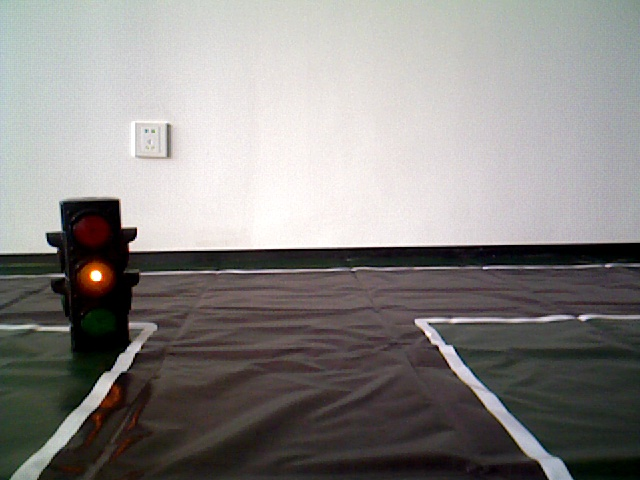yellow: (58, 202, 134, 341)
